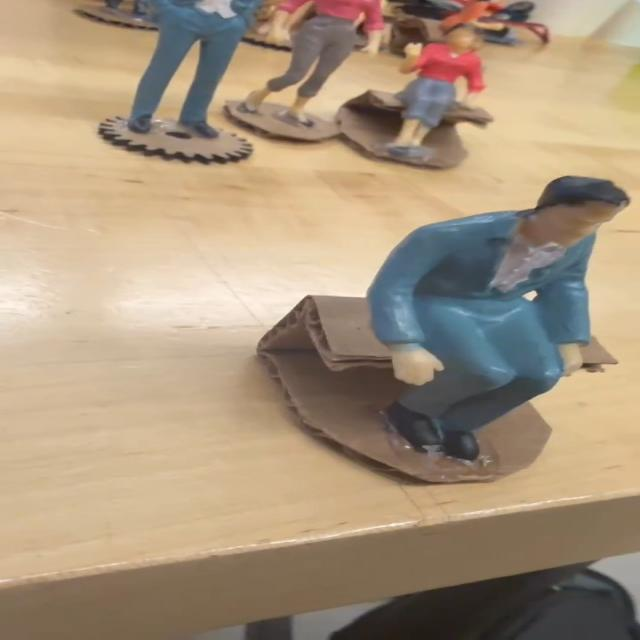Authorized: (333, 171, 632, 480)
